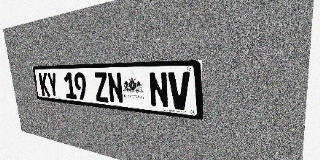1: (63, 73, 77, 99)
9: (74, 72, 88, 100)
K: (38, 73, 50, 97)
N: (148, 72, 169, 109), (107, 72, 124, 104)
V: (168, 72, 191, 111)
Y: (47, 73, 59, 97)
Z: (93, 72, 109, 103)
